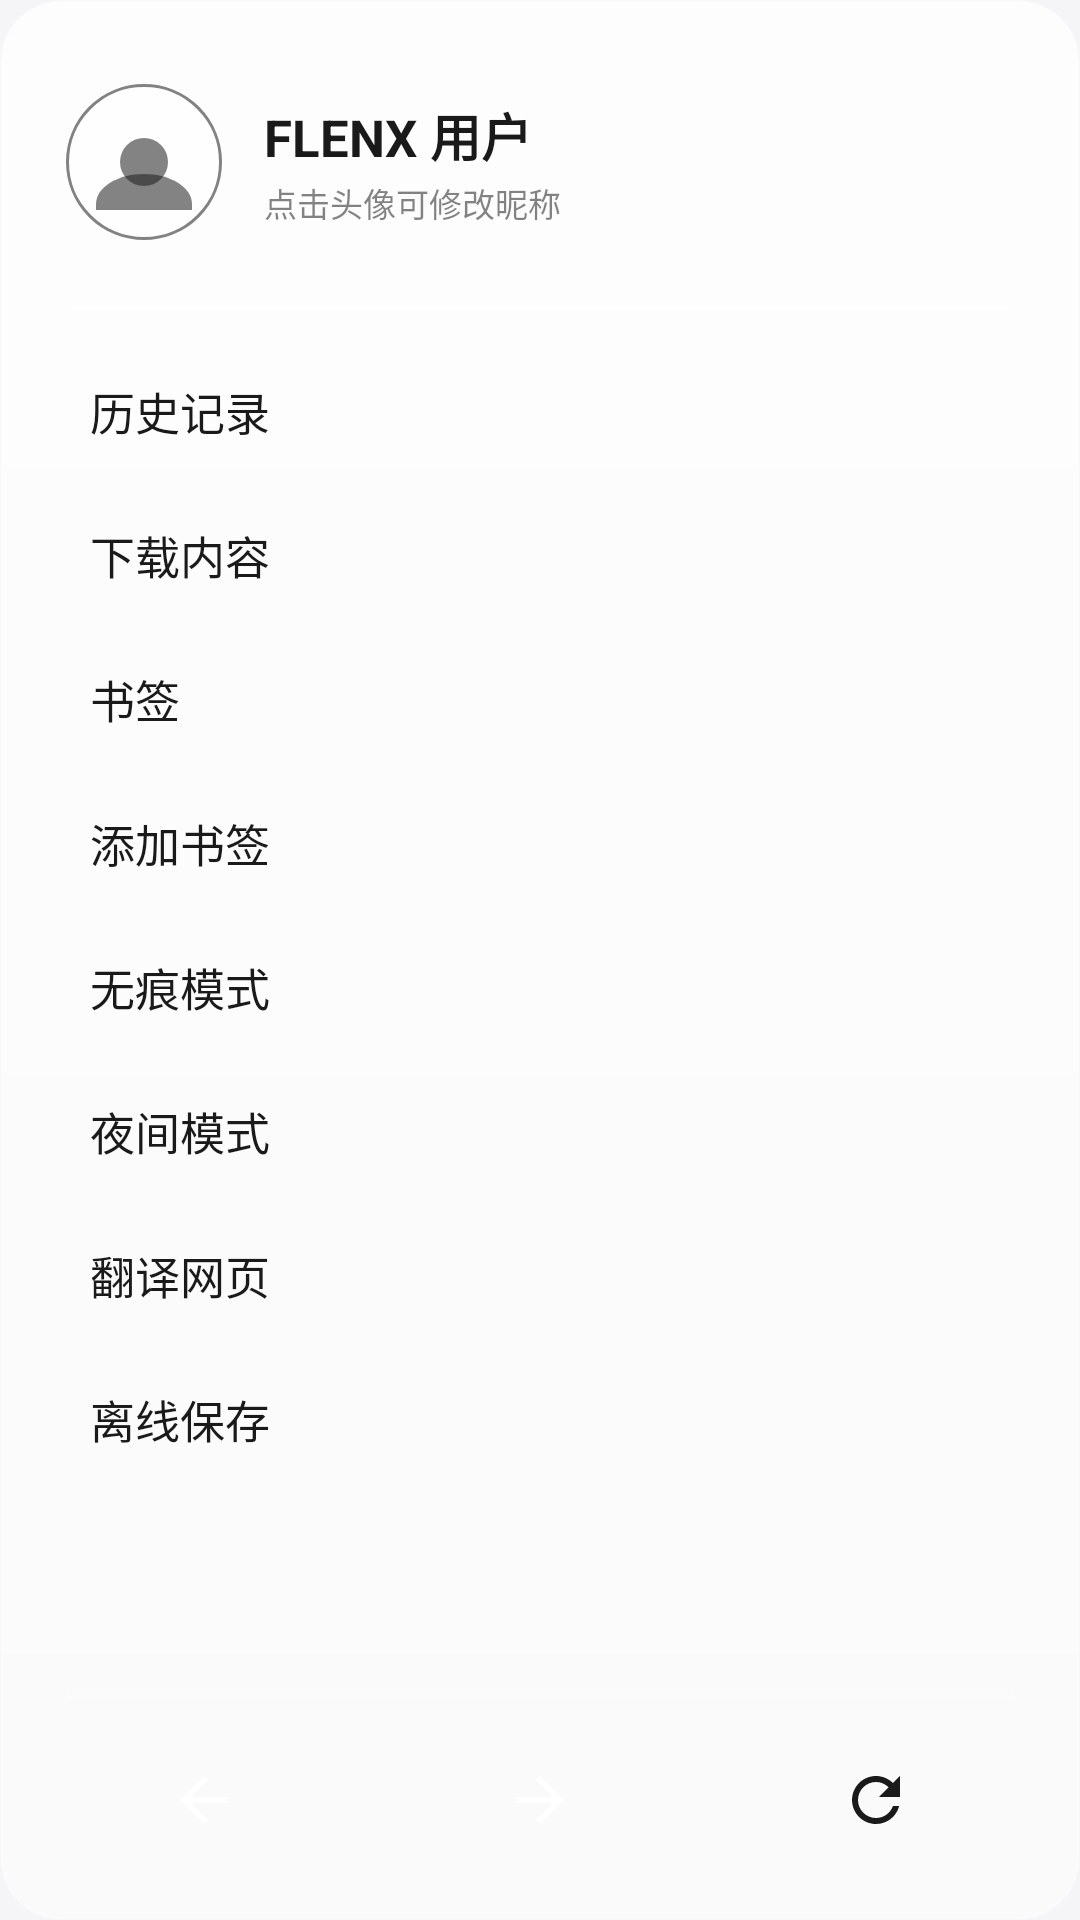

Screen size 1080px x 1920px. Icon name, then its box in pixels as rect(x1, y1, x2, y2):
刷新: rect(852, 1776, 900, 1824)
